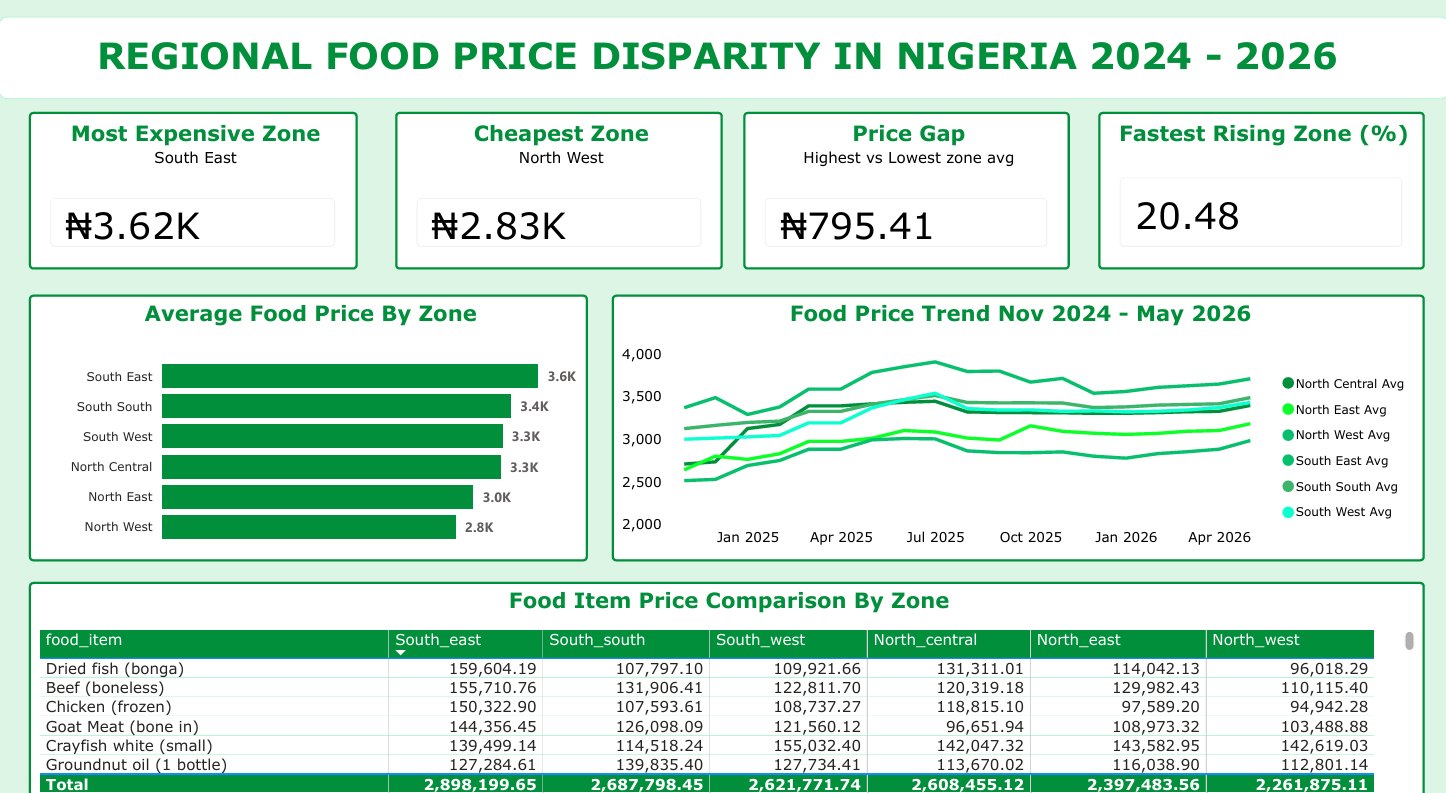

The page's visual inventory and layout, read from the dashboard file:
{"tool":"powerbi","page":{"name":"Page 1","canvas":[1280,720],"ordinal":0},"visuals":[{"type":"textbox","box":[0,15.9,1280.4,73.2],"z":0},{"type":"clusteredBarChart","title":"Average Food Price By Zone","fields":{"Category":["Average Food Price by Zone.Zone"],"Y":["Sum(Average Food Price by Zone.Average Price)"]},"box":[27,260.9,493.1,235.4],"z":1000},{"type":"tableEx","title":"Food Item Price Comparison By Zone","fields":{"Values":["food_prices.food_item","Sum(food_prices. south_east)","Sum(food_prices. south_south)","Sum(food_prices. south_west)","Sum(food_prices.north_central)","Sum(food_prices.north_east)","Sum(food_prices.north_west)"]},"box":[27,513.8,1231.1,195.6],"z":2000},{"type":"lineChart","title":"Food Price Trend Nov 2024 - May 2026","fields":{"Category":["food_prices.date"],"Y":["food_prices.North Central Avg","food_prices.North East Avg","food_prices.North West Avg","food_prices.South East Avg","food_prices.South South Avg","food_prices.South West Avg"]},"box":[540.8,260.9,717.4,235.4],"z":3000},{"type":"cardVisual","title":"Price Gap","fields":{"Data":["food_prices.Price Gap"]},"box":[656.9,100.2,287.9,138.4],"z":4000},{"type":"cardVisual","title":"Most Expensive Zone","fields":{"Data":["food_prices.South East Avg"]},"box":[27,100.2,289.5,138.4],"z":5000},{"type":"cardVisual","title":"Cheapest Zone","fields":{"Data":["food_prices.North West Avg"]},"box":[349.9,100.2,289.5,138.4],"z":6000},{"type":"cardVisual","title":"Fastest Rising Zone (%)","fields":{"Data":["food_prices.Fastest Rising Zone"]},"box":[970.3,100.2,287.9,138.4],"z":7000}]}

Visuals, with their boxes in screenshot pixels (x1, y1, x2, y2), scaled from the page's 1280x720 canvas onto the 1446x793 screenshot:
textbox: 0:18:1445:98
"Average Food Price By Zone" clusteredBarChart: 31:287:588:547
"Food Item Price Comparison By Zone" tableEx: 31:566:1421:781
"Food Price Trend Nov 2024 - May 2026" lineChart: 611:287:1421:547
"Price Gap" cardVisual: 742:110:1067:263
"Most Expensive Zone" cardVisual: 31:110:358:263
"Cheapest Zone" cardVisual: 395:110:722:263
"Fastest Rising Zone (%)" cardVisual: 1096:110:1421:263
